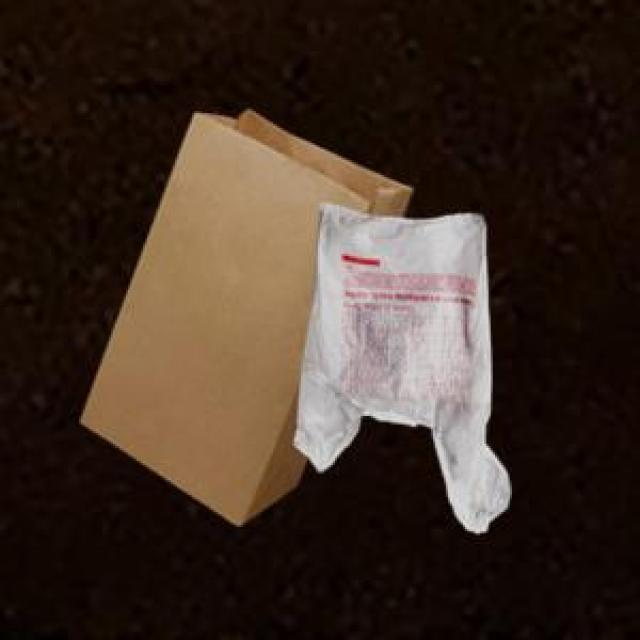paper: (77, 107, 408, 521)
